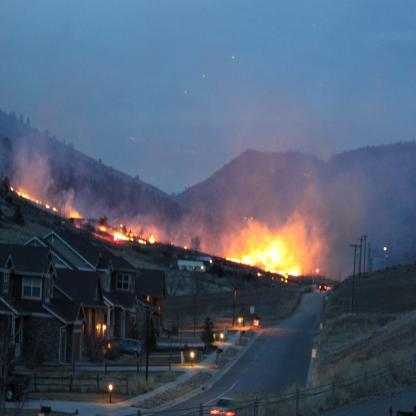fire: (226, 222, 308, 284), (2, 182, 83, 224), (93, 208, 160, 252)
